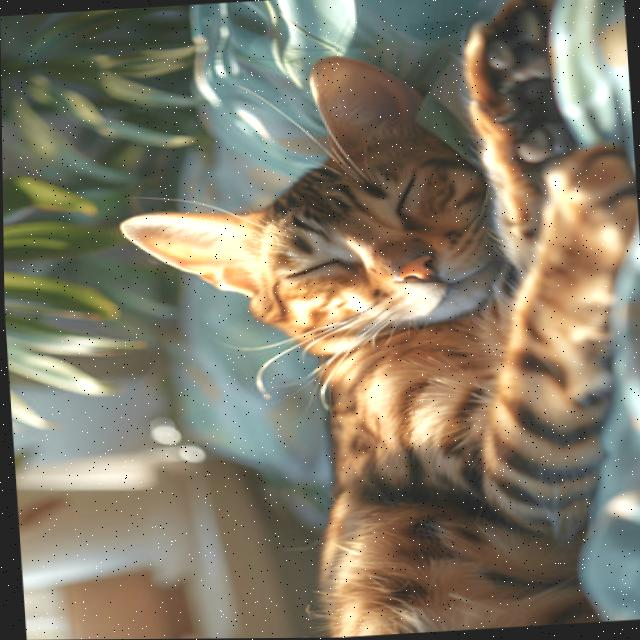Toyger: (98, 0, 640, 639)
